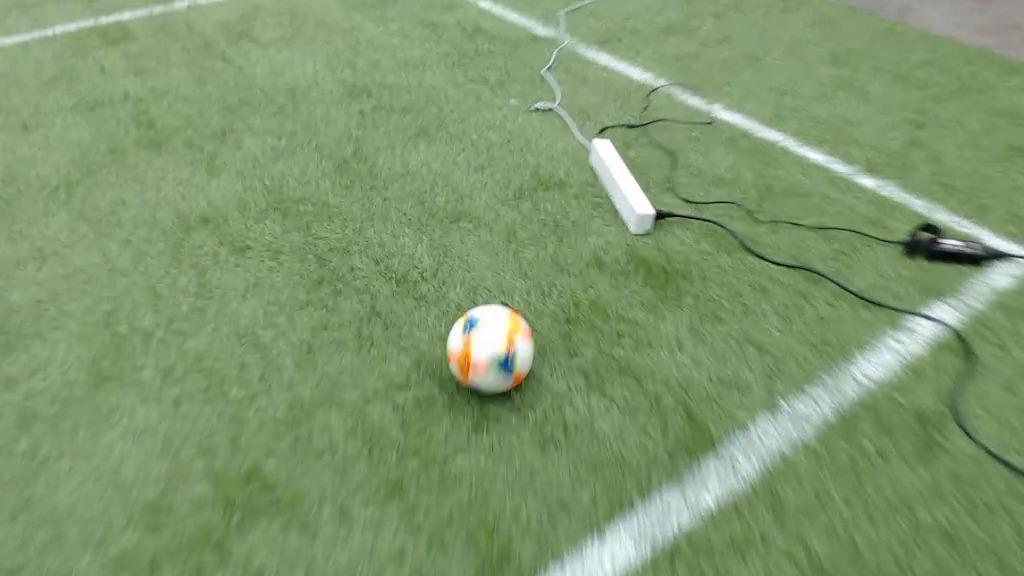ball: (449, 303, 533, 394)
